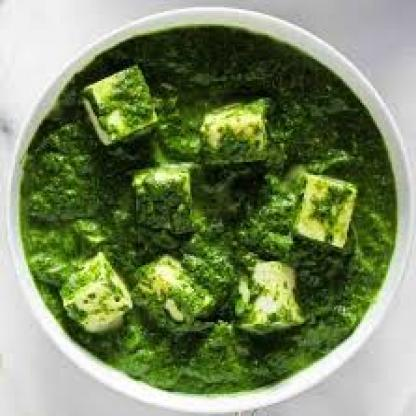palak_paneer: (20, 24, 397, 396)
